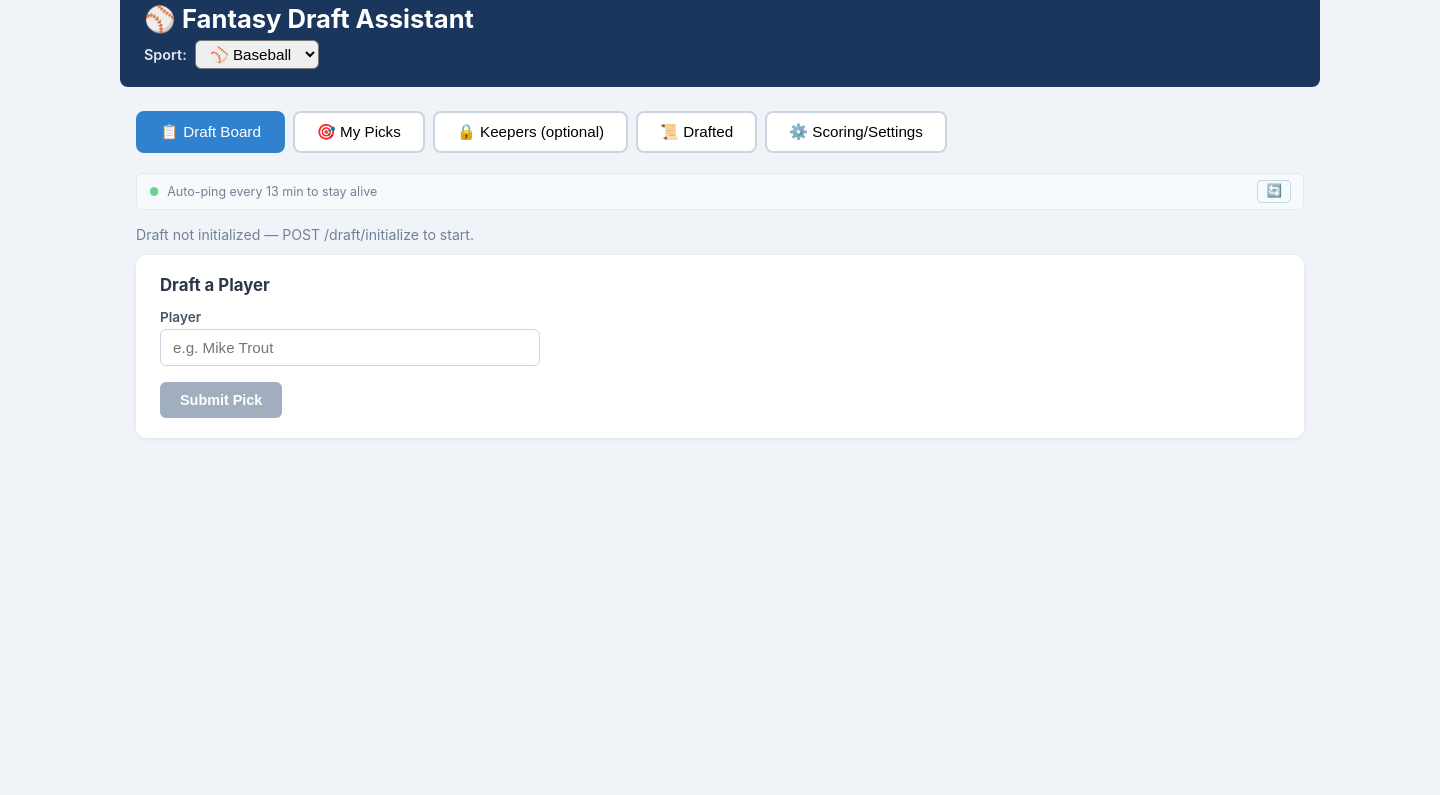
Scenario: Tab navigation › clicking Keepers tab shows the keeper grid
Click the tab "🔒 Keepers (optional)" at [530, 132], box [433,111,628,153]
(page scrolled)
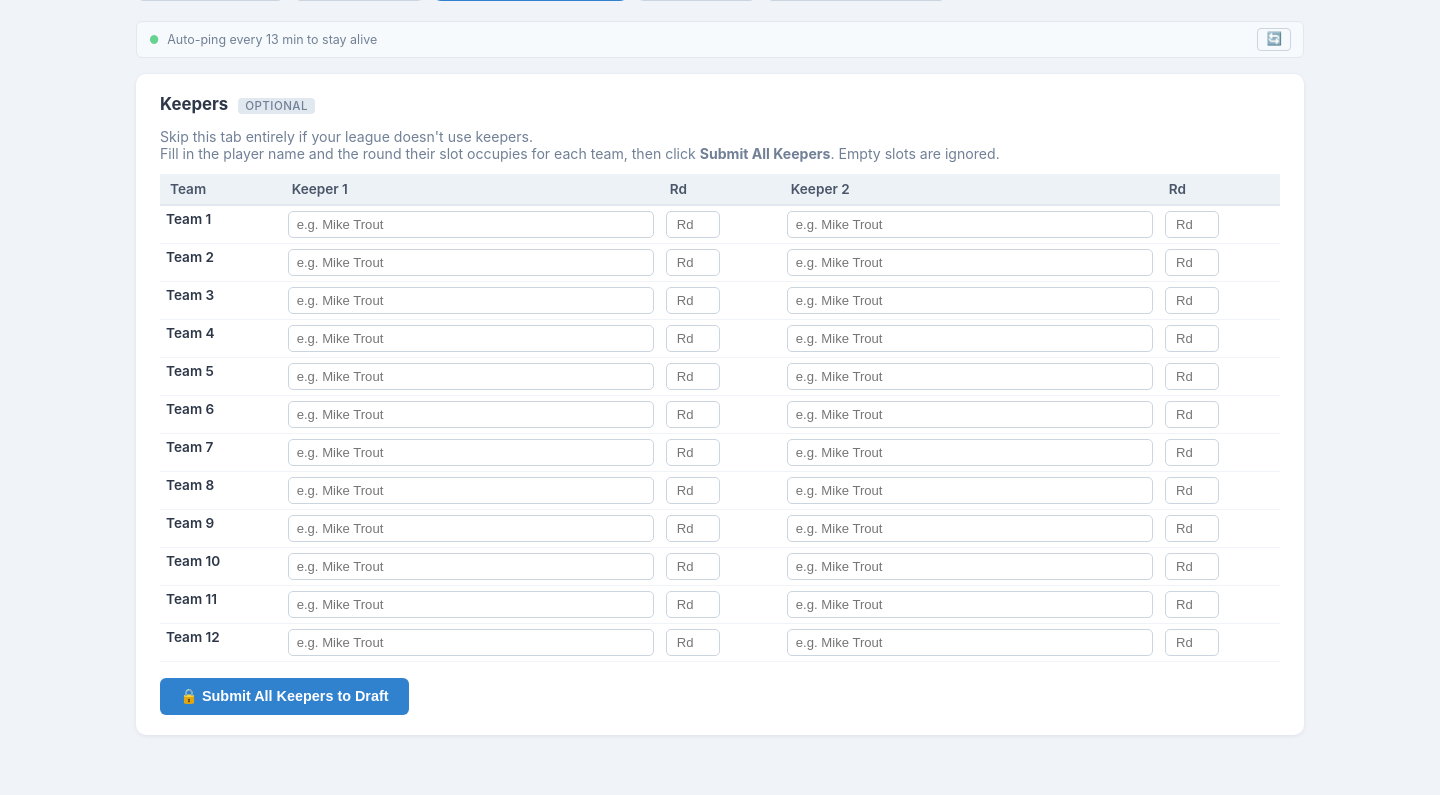
expect the element with test id "keepers-tab" is shown: met
expect the element with test id "keeper-grid" is shown: met, box [160,174,1280,662]
